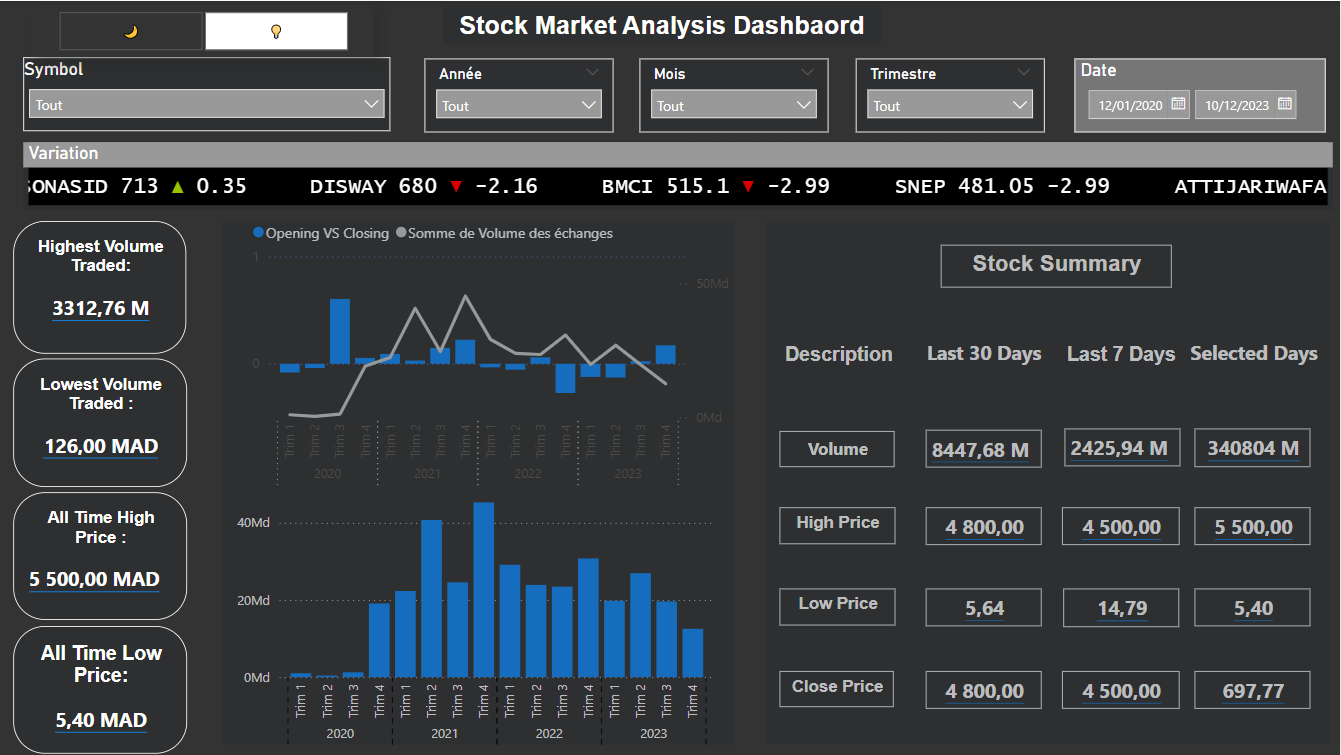

The page's visual inventory and layout, read from the dashboard file:
{"tool":"powerbi","page":{"name":"Stock Market","canvas":[1280,720],"ordinal":0},"visuals":[{"type":"slicer","title":"Symbol","fields":{"Values":["Sheet1 (2).Instrument"]},"box":[25,53.6,349.9,70.2],"z":0},{"type":"textbox","box":[15.5,209.5,165,126],"z":1000},{"type":"textbox","box":[15.5,340,165.4,122.6],"z":2000},{"type":"textbox","box":[15.5,595,165.4,121.4],"z":3000},{"type":"textbox","box":[15.5,468,165.4,121.4],"z":4000},{"type":"slicer","title":"Date","fields":{"Values":["Sheet1 (2).Séance"]},"box":[1025.9,54.7,239.2,70.2],"z":5000},{"type":"slicer","fields":{"Values":["Sheet1 (2).Séance.Variation.Hiérarchie de dates.Année"]},"box":[407,54.7,179.7,70.2],"z":6000},{"type":"slicer","fields":{"Values":["Sheet1 (2).Séance.Variation.Hiérarchie de dates.Trimestre"]},"box":[817.6,54.7,179.7,70.2],"z":7000},{"type":"slicer","fields":{"Values":["Sheet1 (2).Séance.Variation.Hiérarchie de dates.Mois"]},"box":[611.7,54.7,179.7,70.2],"z":8000},{"type":"textbox","box":[884.2,408.2,110.7,35.7],"z":9000},{"type":"textbox","box":[1016.3,407,110.7,35.7],"z":10000},{"type":"textbox","box":[1140.1,407,110.7,36.9],"z":11000},{"type":"textbox","box":[1014,482,111.9,35.7],"z":12000},{"type":"textbox","box":[1140,482,110.7,35.7],"z":13000},{"type":"textbox","box":[884.2,559.3,110.7,35.7],"z":14000},{"type":"textbox","box":[1015.1,559.3,110.7,36.9],"z":15000},{"type":"textbox","box":[1140.1,559.3,110.7,35.7],"z":16000},{"type":"textbox","box":[745,409.4,109.5,34.5],"z":17000},{"type":"textbox","box":[745,482,110,35],"z":18000},{"type":"textbox","box":[745,559.3,110,35],"z":19000},{"type":"textbox","box":[1000.9,321.3,139,39.3],"z":20000},{"type":"textbox","box":[870,316.6,139.2,39.3],"z":21000},{"type":"textbox","box":[884.2,482,110.7,35.7],"z":22000},{"type":"textbox","box":[745,637.9,109,34.5],"z":23000},{"type":"textbox","box":[884.2,637.9,110.7,35.7],"z":24000},{"type":"textbox","box":[1014,637.9,111.9,35.7],"z":25000},{"type":"textbox","box":[1140.1,637.9,110.7,35.7],"z":26000},{"type":"textbox","box":[1127,316.6,139.2,39.3],"z":27000},{"type":"ScrollingTextVisual1448795304508","title":"Variation","fields":{"Category":["Sheet1 (2).Instrument"],"Measure Deviation":["Sheet1 (2).VariationOuvertureDernierCours"],"Measure Absolute":["Sheet1 (2).Ouverture26Oct"]},"box":[25,135,1247.5,65],"z":28000},{"type":"clusteredColumnChart","fields":{"Category":["Sheet1 (2).Séance.Variation.Hiérarchie de dates.Année","Sheet1 (2).Séance.Variation.Hiérarchie de dates.Trimestre"],"Y":["Sum(Sheet1 (2).Volume des échanges)"]},"box":[223.7,447,464.1,273.7],"z":29000},{"type":"textbox","box":[425,5,416.5,36.9],"z":30000},{"type":"textbox","box":[898.5,232.1,220.2,40.5],"z":31000},{"type":"textbox","box":[731.9,321.3,139.2,39.3],"z":32000},{"type":"lineStackedColumnComboChart","fields":{"Category":["Sheet1 (2).Séance.Variation.Hiérarchie de dates.Année","Sheet1 (2).Séance.Variation.Hiérarchie de dates.Trimestre"],"Y":["Sheet1 (2).VariationPource"],"Y2":["Sum(Sheet1 (2).Volume des échanges)"]},"box":[238,200,464.1,272.5],"z":33000},{"type":"shape","box":[731.9,209.5,536.7,498.6],"z":34000},{"type":"shape","box":[214.2,209.5,487.9,498.6],"z":35000},{"type":"slicer","fields":{"Values":["COLOURS.Label"]},"box":[33.3,3.6,324.9,50],"z":36000}]}

Visuals, with their boxes in screenshot pixels (x1, y1, x2, y2), scaled from the page's 1280x720 canvas onto the 1341x755 screenshot:
"Symbol" slicer: 26/56/393/130
textbox: 16/220/189/352
textbox: 16/357/190/485
textbox: 16/624/190/751
textbox: 16/491/190/618
"Date" slicer: 1075/57/1325/131
slicer - Sheet1 (2).Séance.Variation.Hiérarchie de dates.Année: 426/57/615/131
slicer - Sheet1 (2).Séance.Variation.Hiérarchie de dates.Trimestre: 857/57/1045/131
slicer - Sheet1 (2).Séance.Variation.Hiérarchie de dates.Mois: 641/57/829/131
textbox: 926/428/1042/465
textbox: 1065/427/1181/464
textbox: 1194/427/1310/465
textbox: 1062/505/1180/543
textbox: 1194/505/1310/543
textbox: 926/586/1042/624
textbox: 1063/586/1179/625
textbox: 1194/586/1310/624
textbox: 781/429/895/465
textbox: 781/505/896/542
textbox: 781/586/896/623
textbox: 1049/337/1194/378
textbox: 911/332/1057/373
textbox: 926/505/1042/543
textbox: 781/669/895/705
textbox: 926/669/1042/706
textbox: 1062/669/1180/706
textbox: 1194/669/1310/706
textbox: 1181/332/1327/373
"Variation" ScrollingTextVisual1448795304508: 26/142/1333/210
clusteredColumnChart - Sheet1 (2).Séance.Variation.Hiérarchie de dates.Année x Sheet1 (2).Séance.Variation.Hiérarchie de dates.Trimestre: 234/469/721/754
textbox: 445/5/882/44
textbox: 941/243/1172/286
textbox: 767/337/913/378
lineStackedColumnComboChart - Sheet1 (2).Séance.Variation.Hiérarchie de dates.Année x Sheet1 (2).Séance.Variation.Hiérarchie de dates.Trimestre: 249/210/736/495
shape: 767/220/1329/743
shape: 224/220/736/743
slicer - COLOURS.Label: 35/4/375/56
